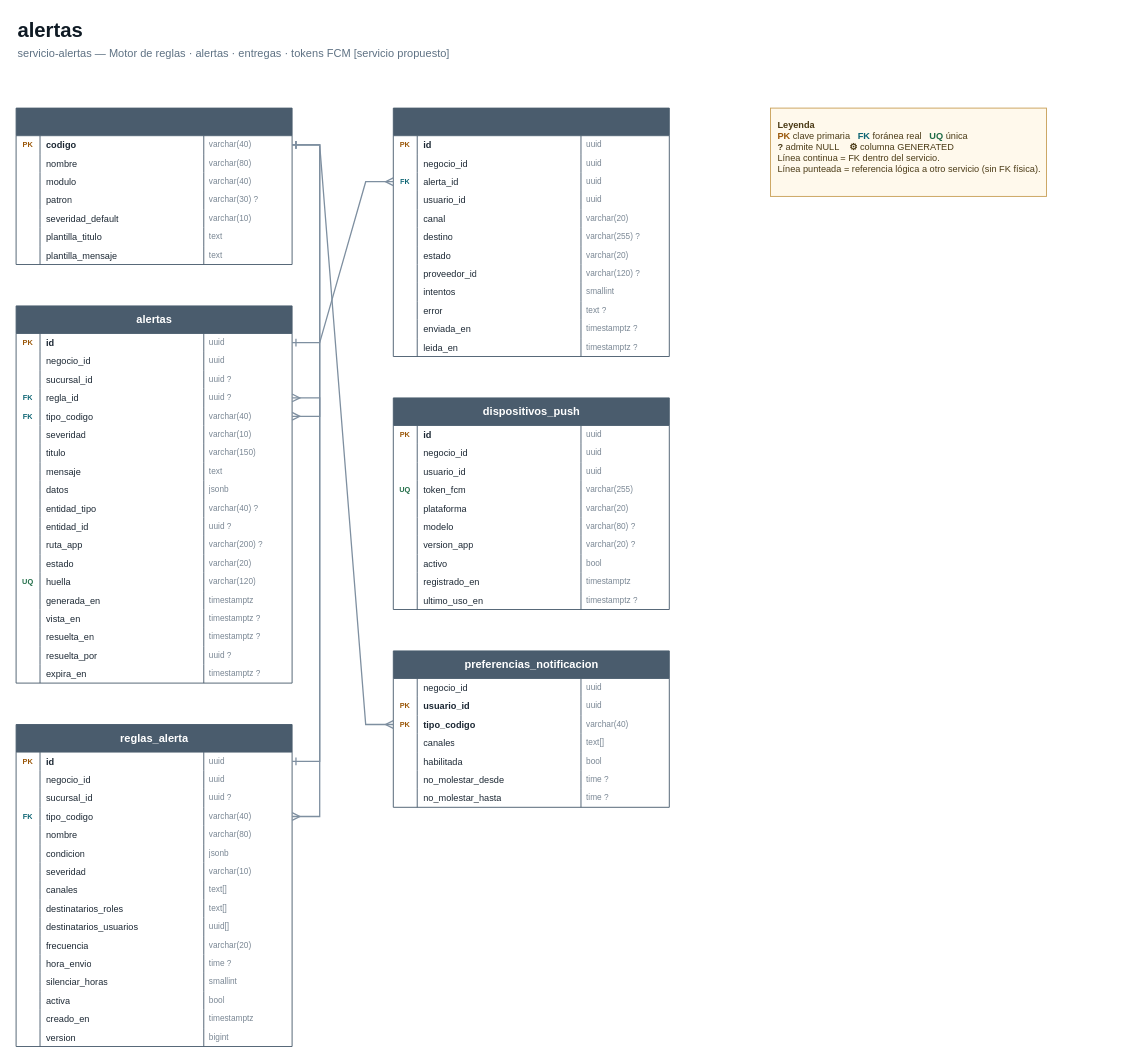
This 1136x1063 diagram has some shape labels left out. The box of each missing label's shape, as (x1, y1, x2, y2) in pixels:
entregas: (392, 107, 669, 356)
tipos_alerta: (15, 107, 292, 264)
